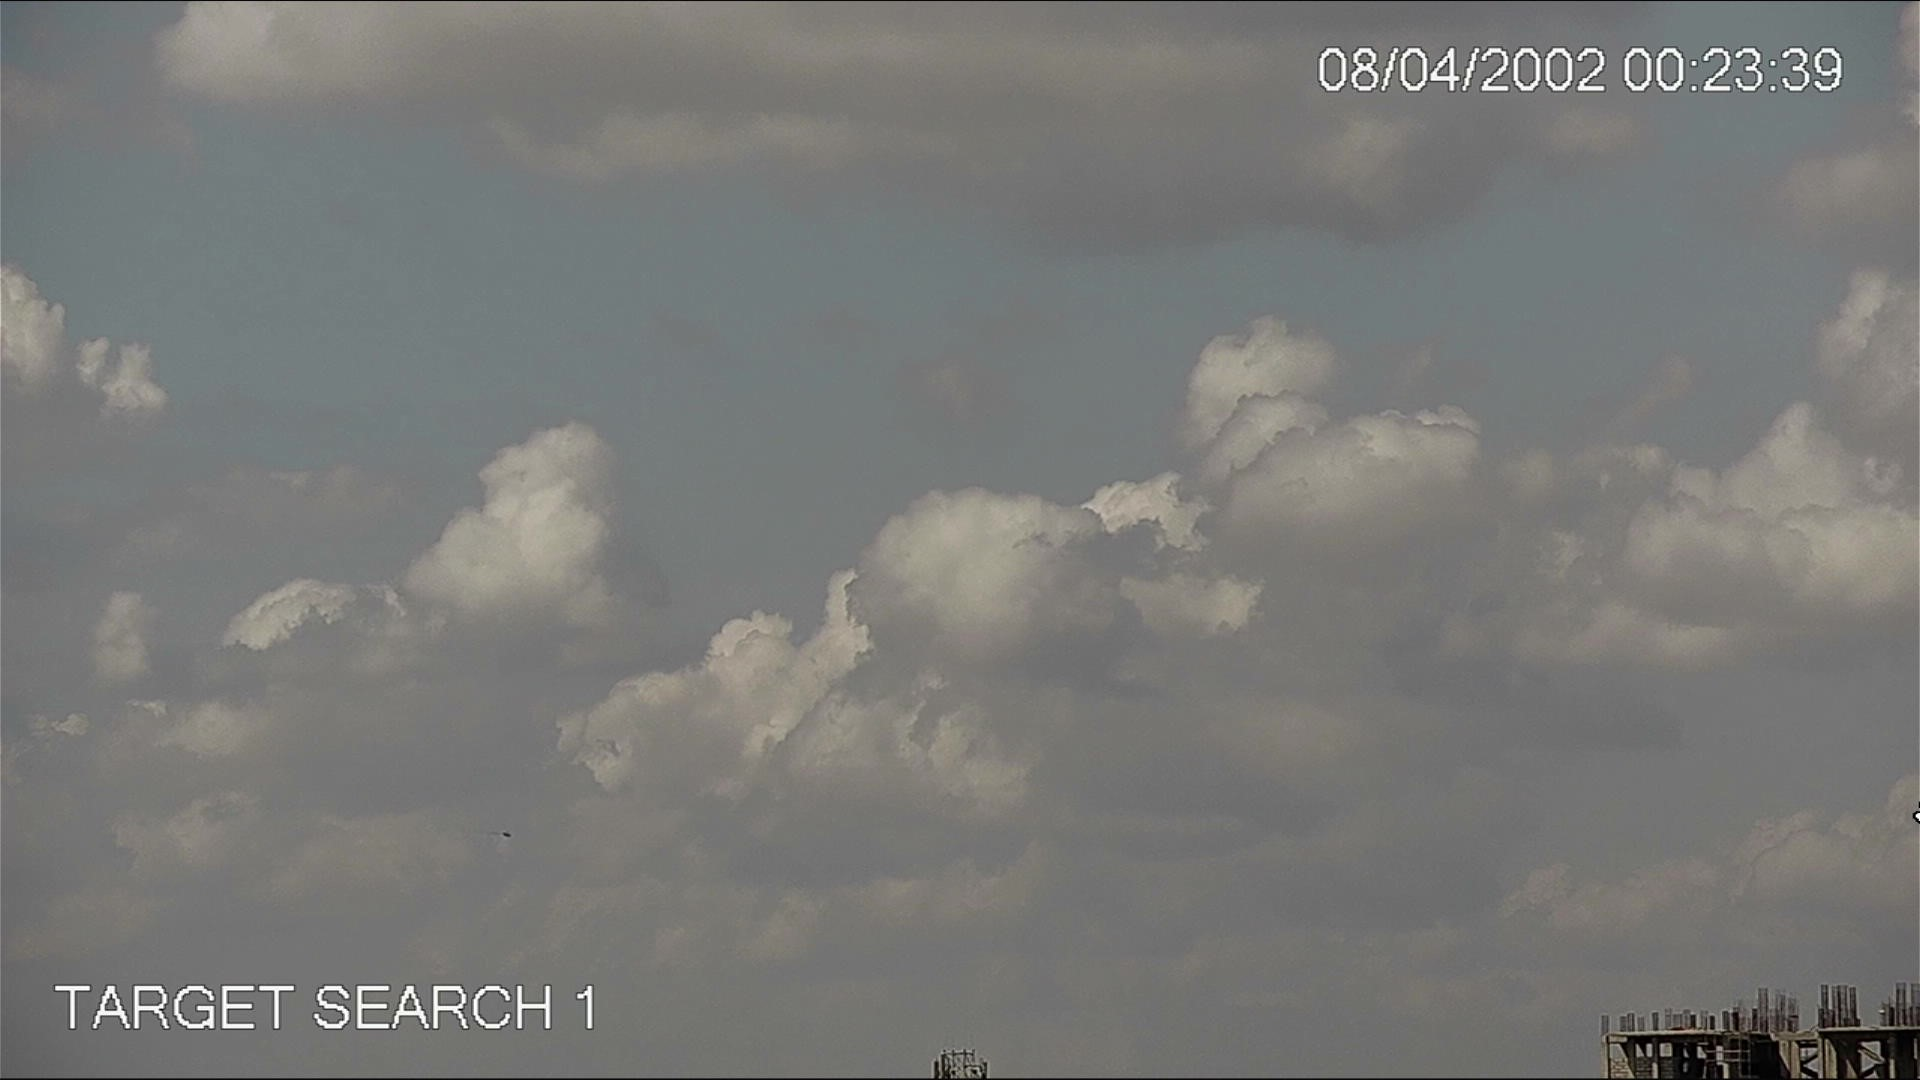SU_30: (487, 825, 513, 843)
